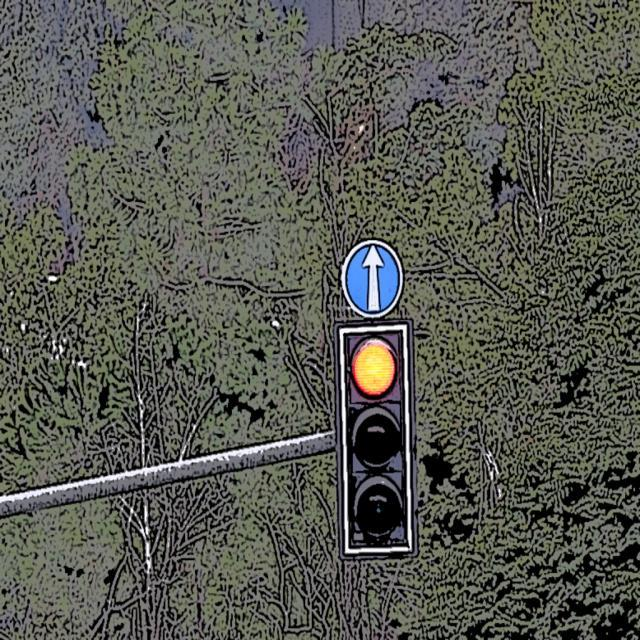traffic light: (326, 312, 427, 557)
